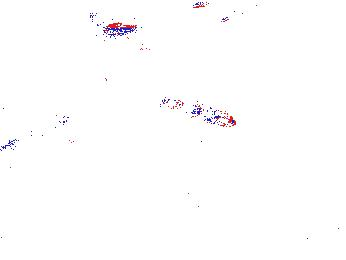X-ray fish: (228, 243, 297, 260), (188, 137, 221, 164), (299, 220, 341, 239)
red belly glassfish: (193, 105, 239, 129), (137, 93, 185, 113), (103, 22, 141, 39)
redtail glassfish: (194, 1, 264, 22)
